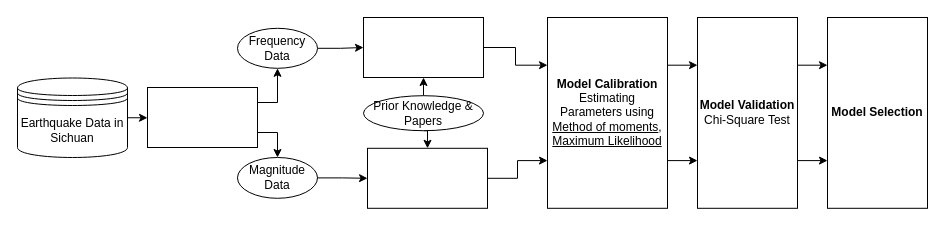
Some shapes in this 945 by 226 pixel diagram are drawn without their labels. The centre of each missing label's shape, as x and y in pixels:
"Data Processing" goes at point (202, 117).
"Model Choice (Poisson)" goes at point (423, 47).
"Model Choice (Weibull)" goes at point (427, 177).
